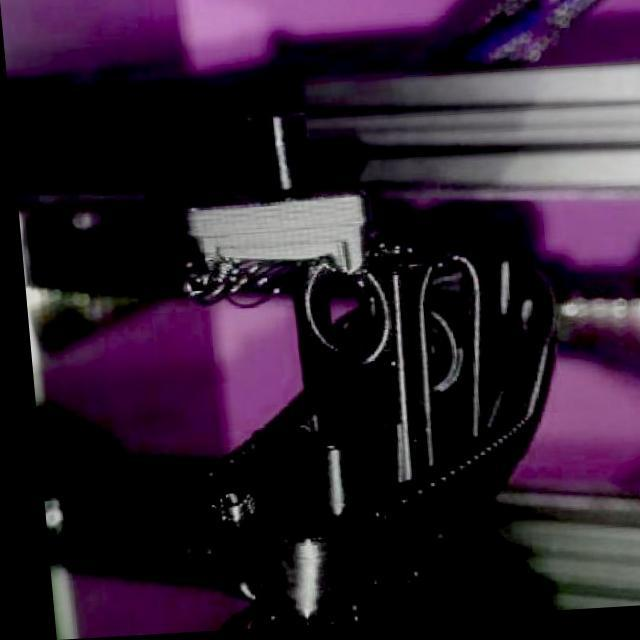spaghetti: (173, 251, 296, 314), (355, 230, 412, 278)
